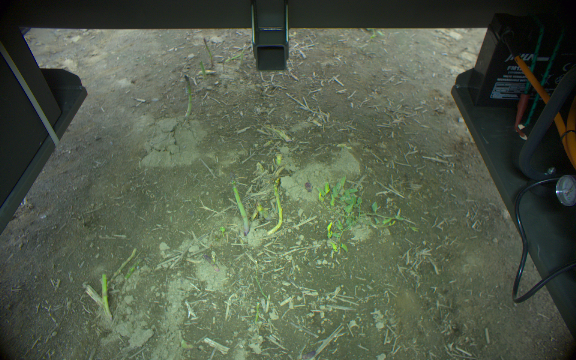aspa: (227, 171, 249, 235), (265, 177, 283, 236), (108, 246, 137, 281), (181, 75, 197, 120), (99, 272, 112, 316), (203, 36, 212, 67)
